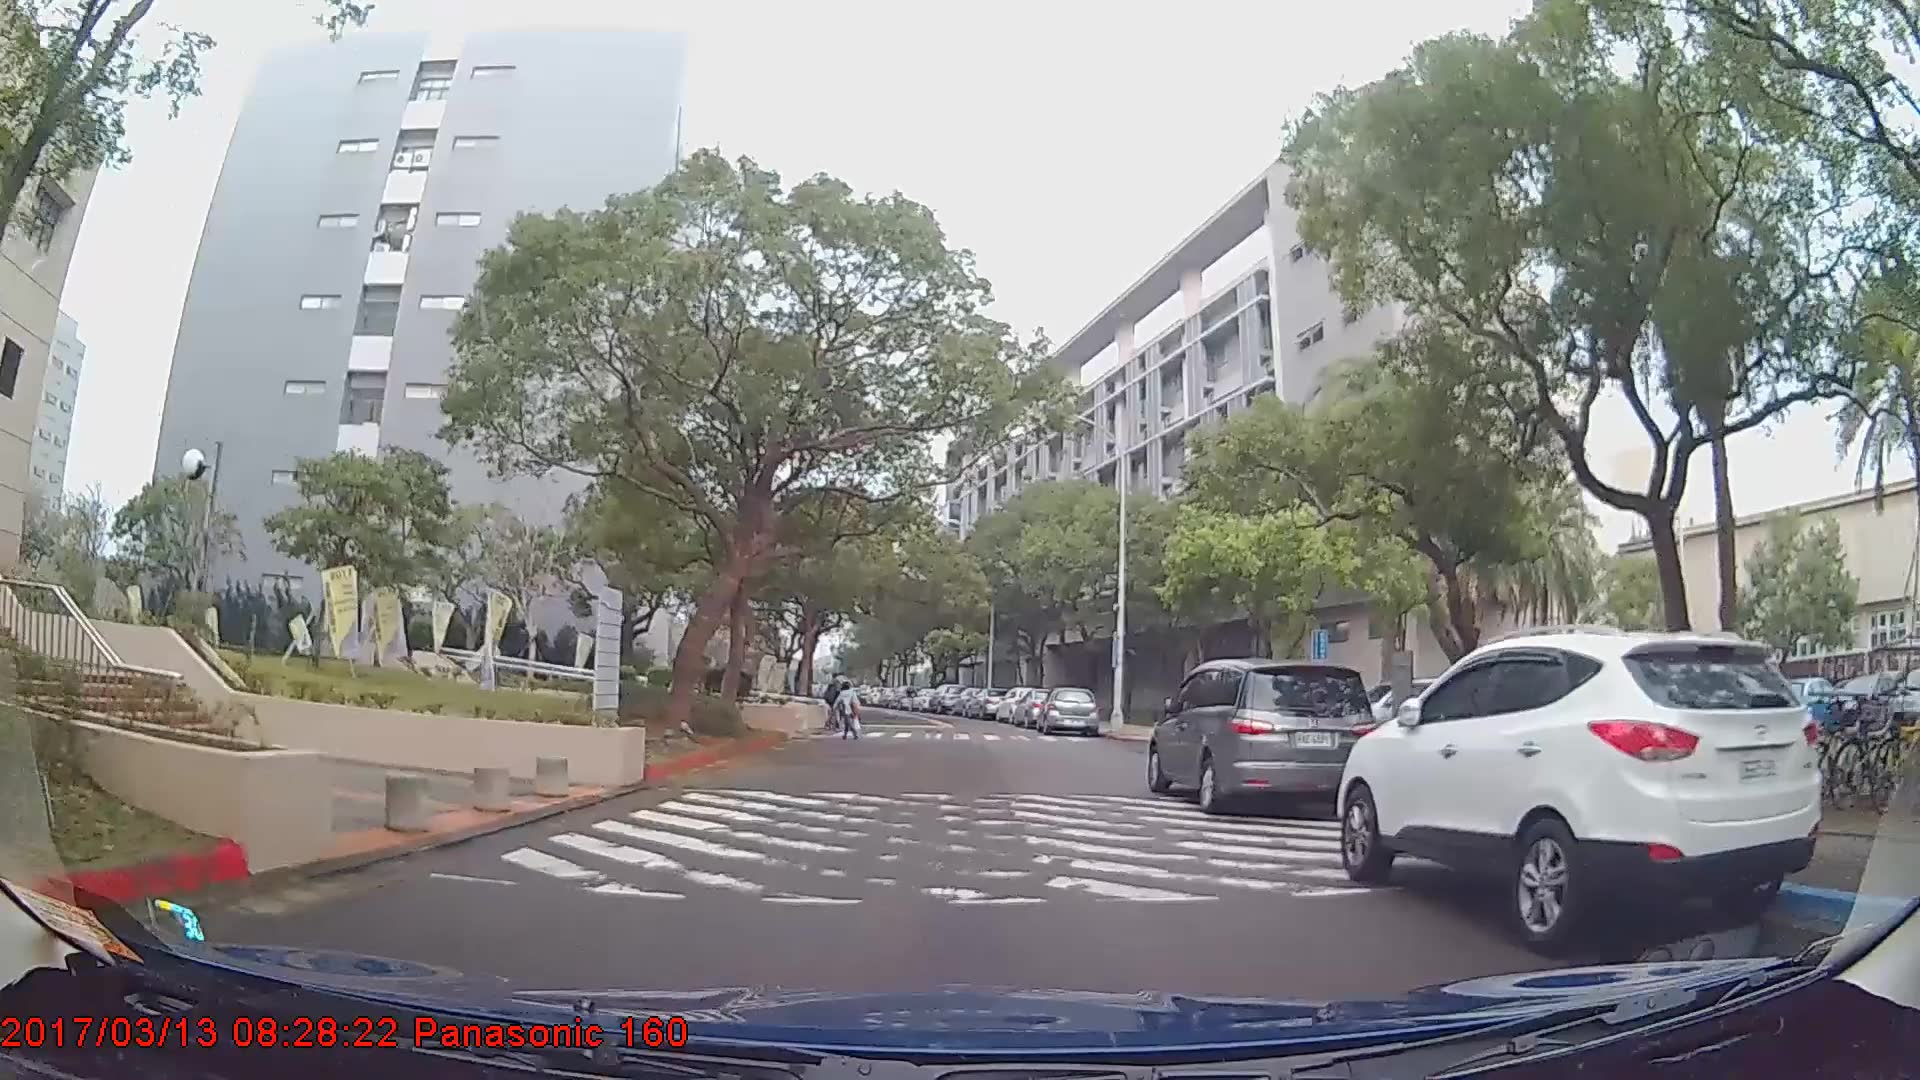pedestrian: (832, 681, 864, 744), (822, 670, 847, 729)
vehicle: (1338, 626, 1824, 954), (1147, 656, 1380, 818), (1825, 669, 1911, 731), (1041, 683, 1099, 735), (966, 689, 1007, 719), (927, 682, 965, 714)
